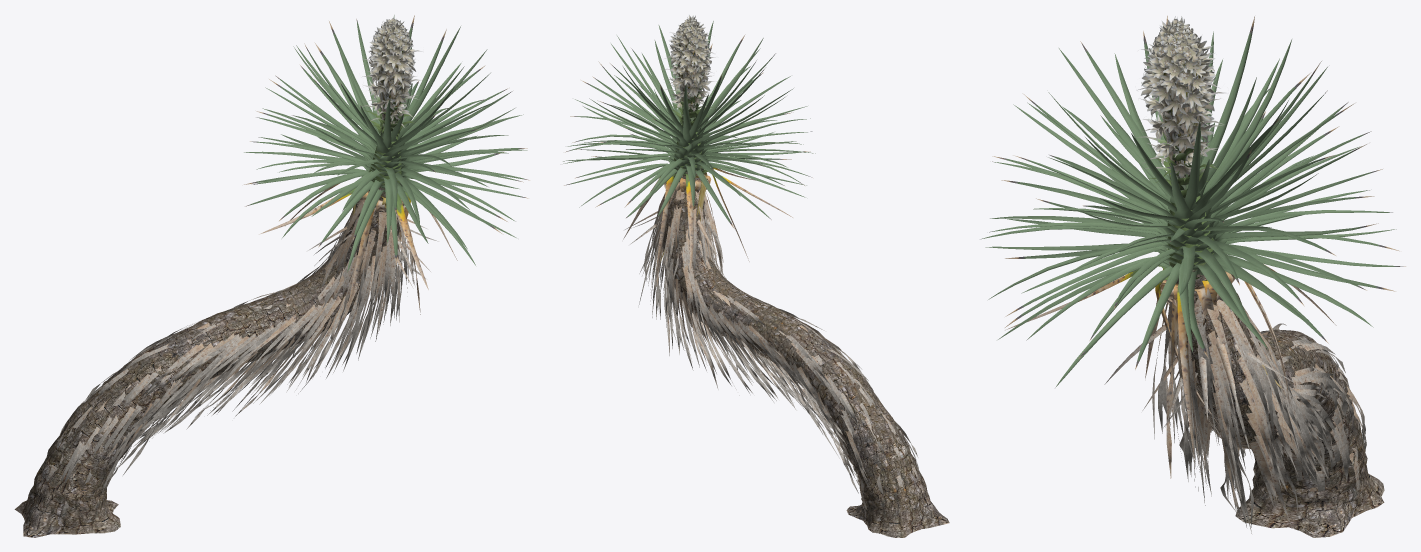
The model's file is joshua_desert_tree.glb.
The picture shows the model from 3 angles, left to right: view 1: azimuth 30°, elevation 25°; view 2: azimuth 150°, elevation 25°; view 3: azimuth 270°, elevation 25°; orthographic projection. The views are drawn at different scales.
Parts seen in each view (by area): view 1: Yucca_brevifolia_HD; view 2: Yucca_brevifolia_HD; view 3: Yucca_brevifolia_HD.
Boxes of the visible parts, x1,y1,x2,y2 form: Yucca_brevifolia_HD: (14, 15, 529, 537); Yucca_brevifolia_HD: (563, 15, 949, 537); Yucca_brevifolia_HD: (980, 15, 1405, 537).
Size of the model in its own units: 1.39 by 1.38 by 0.7714.
11 materials, 11 textured.
